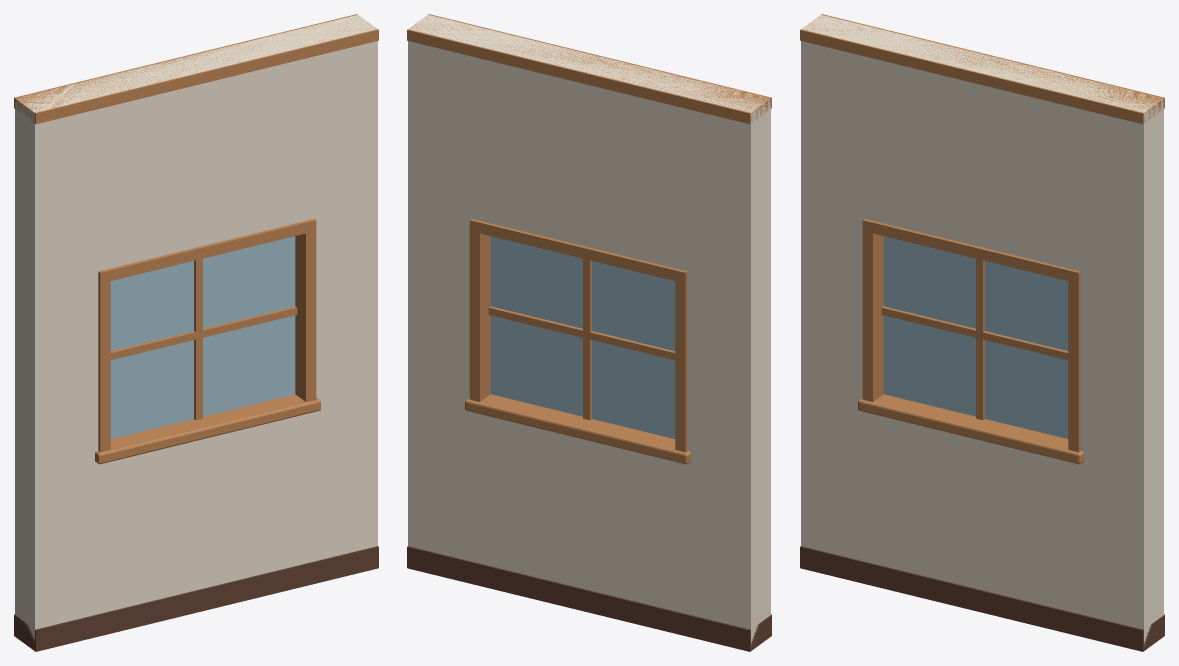
The model's file is wall_window_2m.glb.
3 views of the same model, side by side, from view 1: azimuth 30°, elevation 25°; view 2: azimuth 150°, elevation 25°; view 3: azimuth 330°, elevation 25° (orthographic).
Visible parts, largest first — view 1: wall_window_2m; view 2: wall_window_2m; view 3: wall_window_2m.
Boxes of the visible parts, <box> form: wall_window_2m: <box>14,14,378,651</box>; wall_window_2m: <box>407,14,771,651</box>; wall_window_2m: <box>800,14,1164,651</box>.
Size of the model in its own units: 2 by 3 by 0.28.
